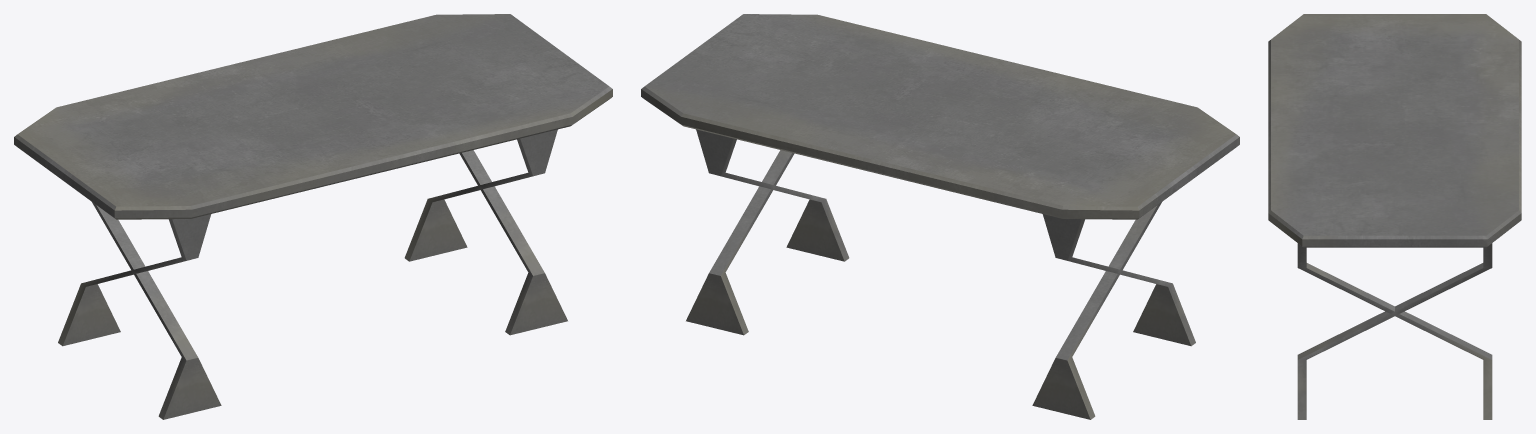
File: table.fbx
3 views of the same model, side by side, from view 1: azimuth 30°, elevation 25°; view 2: azimuth 150°, elevation 25°; view 3: azimuth 270°, elevation 25° (orthographic). The views are drawn at different scales.
Parts seen in each view (by area): view 1: Rectangle001; view 2: Rectangle001; view 3: Rectangle001.
Part boxes in pixels (x1=…): Rectangle001: x1=14, y1=14, x2=612, y2=419; Rectangle001: x1=641, y1=14, x2=1239, y2=419; Rectangle001: x1=1268, y1=14, x2=1521, y2=419.
Size of the model in its own units: 2000 by 850 by 956.
Materials: 1 (1 with a texture image).
